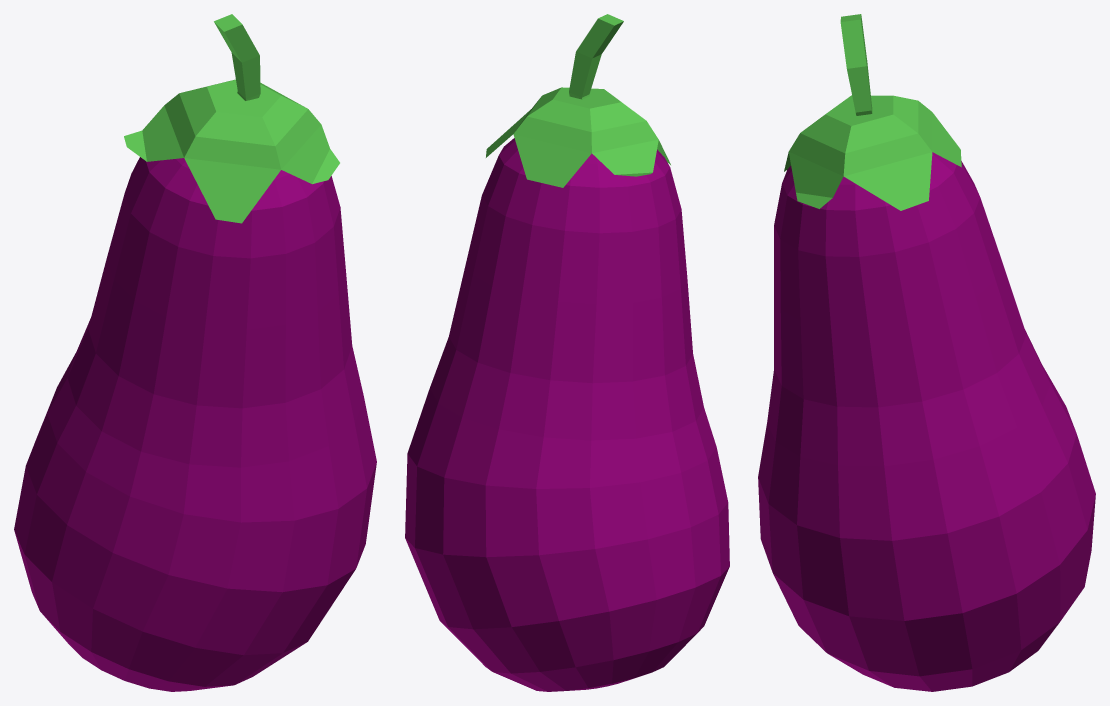
Rendered from eggplant.fbx.
3 renders of one model, left to right at view 1: azimuth 30°, elevation 25°; view 2: azimuth 150°, elevation 25°; view 3: azimuth 270°, elevation 25°, orthographic. The views are drawn at different scales.
Visible parts, largest first — view 1: Sphere.069; view 2: Sphere.069; view 3: Sphere.069.
Part boxes in pixels (bbox=[...]): Sphere.069: bbox=[14, 14, 376, 691]; Sphere.069: bbox=[405, 14, 729, 691]; Sphere.069: bbox=[758, 14, 1095, 691].
Size of the model in its own units: 108 by 230 by 107.
